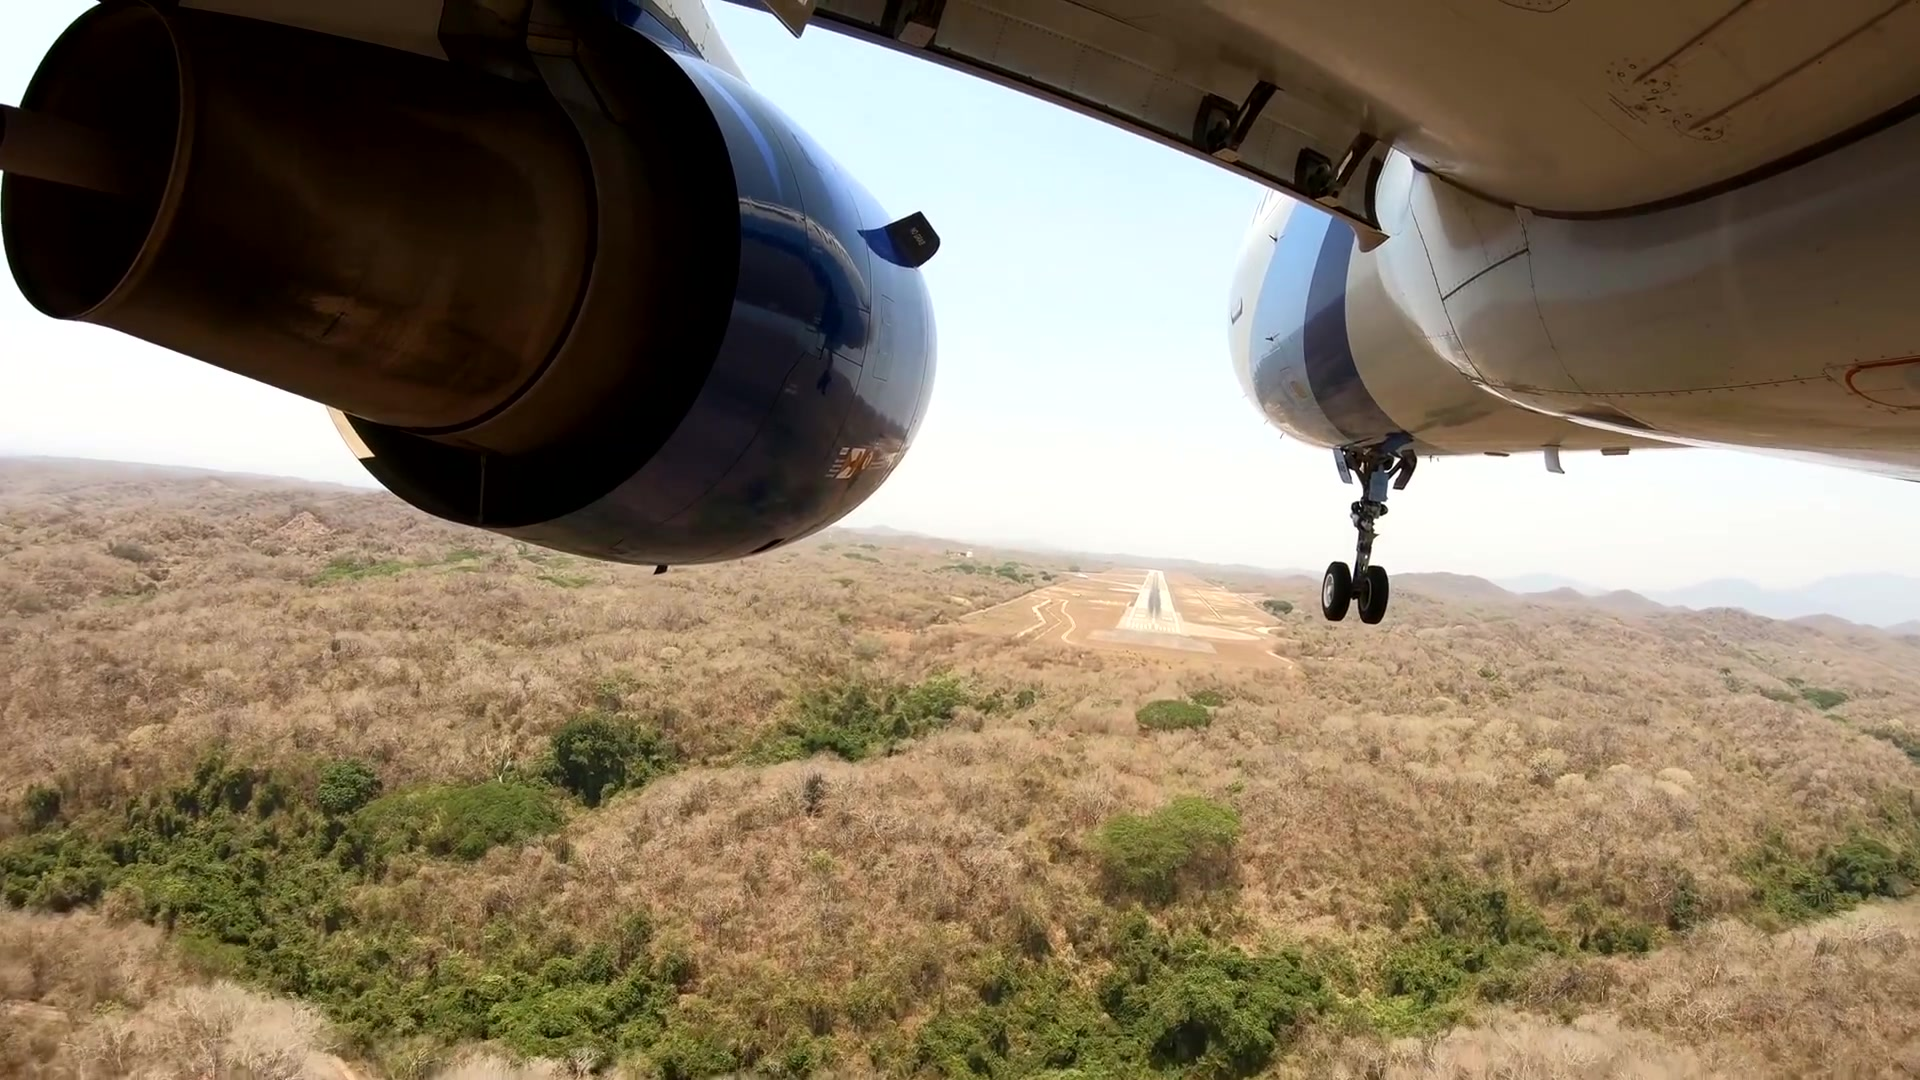entrance: (1127, 620, 1178, 633)
runway: (1125, 568, 1183, 638)
